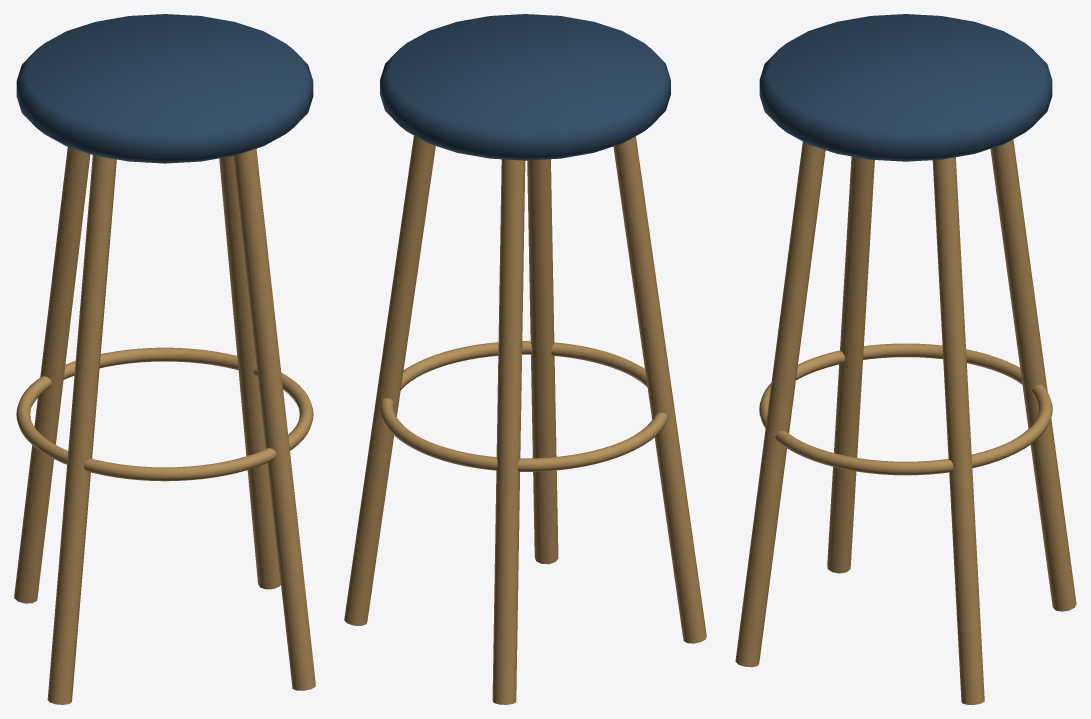
File: i_stool_5.glb
3 renders of one model, left to right at view 1: azimuth 30°, elevation 25°; view 2: azimuth 150°, elevation 25°; view 3: azimuth 270°, elevation 25°, orthographic. The views are drawn at different scales.
Visible parts, largest first — view 1: o.004, o.002, o.003, o.001, o, o.005; view 2: o.004, o.001, o.002, o, o.003, o.005; view 3: o.004, o, o.003, o.001, o.002, o.005.
Boxes of the visible parts, x1,y1,x2,y2 form: o.004: [16, 14, 313, 163]; o.002: [47, 155, 116, 704]; o.003: [233, 148, 315, 690]; o.001: [14, 147, 90, 603]; o: [219, 156, 280, 589]; o.005: [16, 347, 313, 481]; o.004: [380, 14, 670, 160]; o.001: [492, 159, 525, 704]; o.002: [613, 136, 706, 643]; o: [344, 135, 435, 625]; o.003: [527, 159, 558, 564]; o.005: [380, 341, 668, 471]; o.004: [759, 14, 1052, 161]; o: [932, 157, 984, 704]; o.003: [735, 141, 825, 667]; o.001: [990, 139, 1076, 611]; o.002: [827, 156, 874, 573]; o.005: [759, 343, 1052, 475].
Size of the model in its own units: 0.3961 by 0.7217 by 0.3961.
